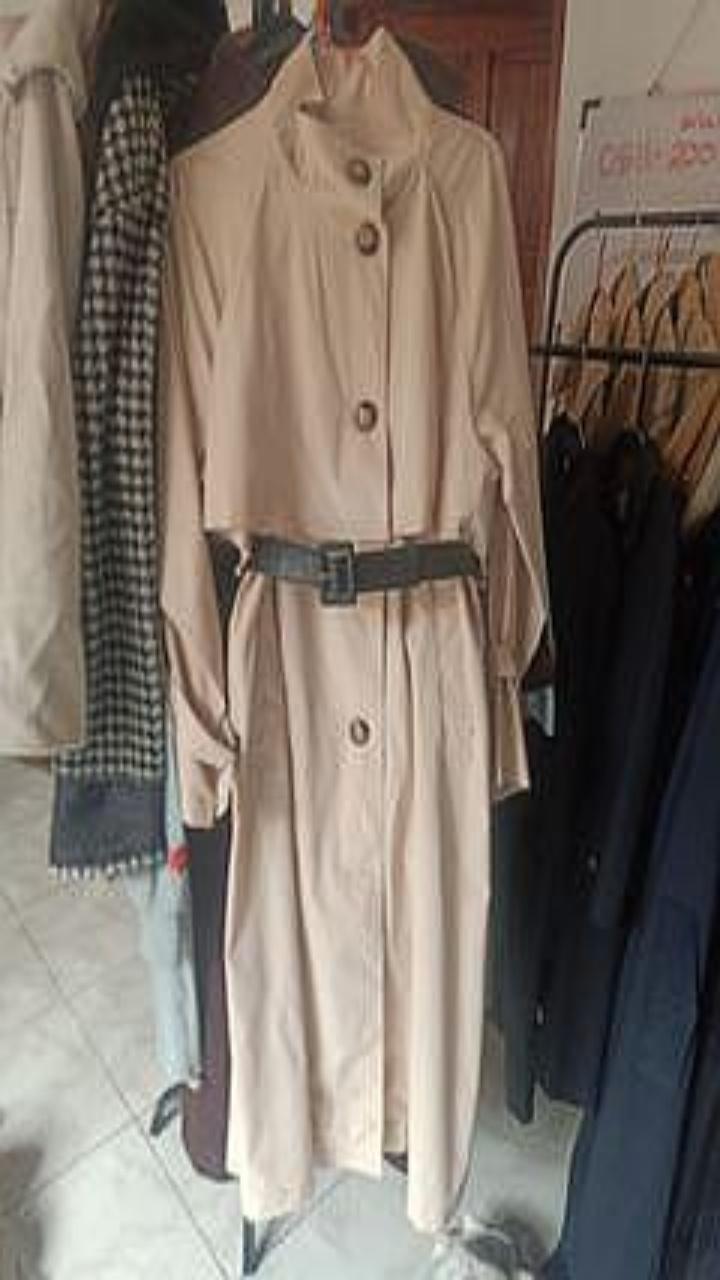Coat: (163, 30, 545, 1229), (493, 418, 678, 1120), (547, 611, 719, 1279)
